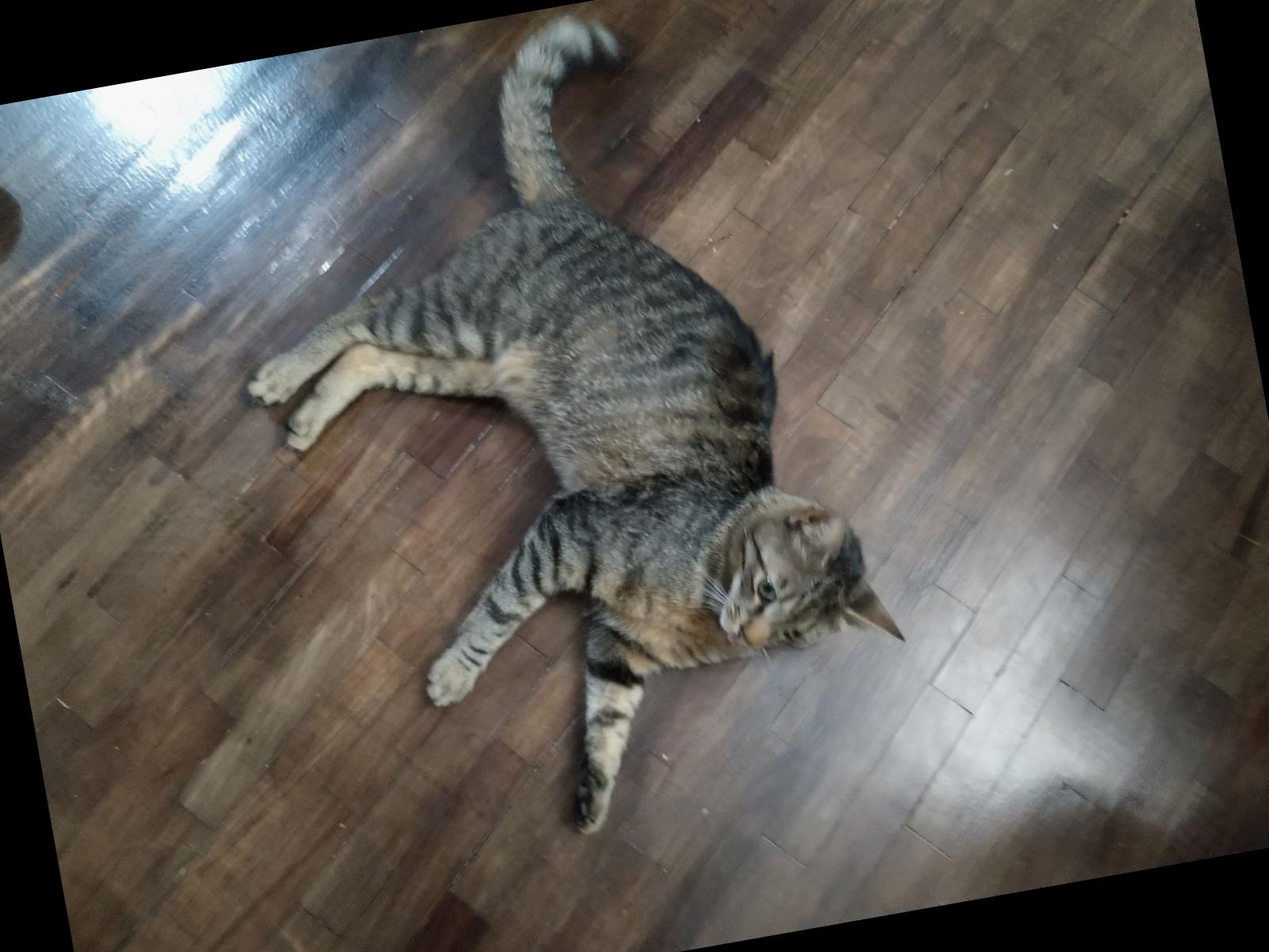macka: (185, 0, 928, 879)
